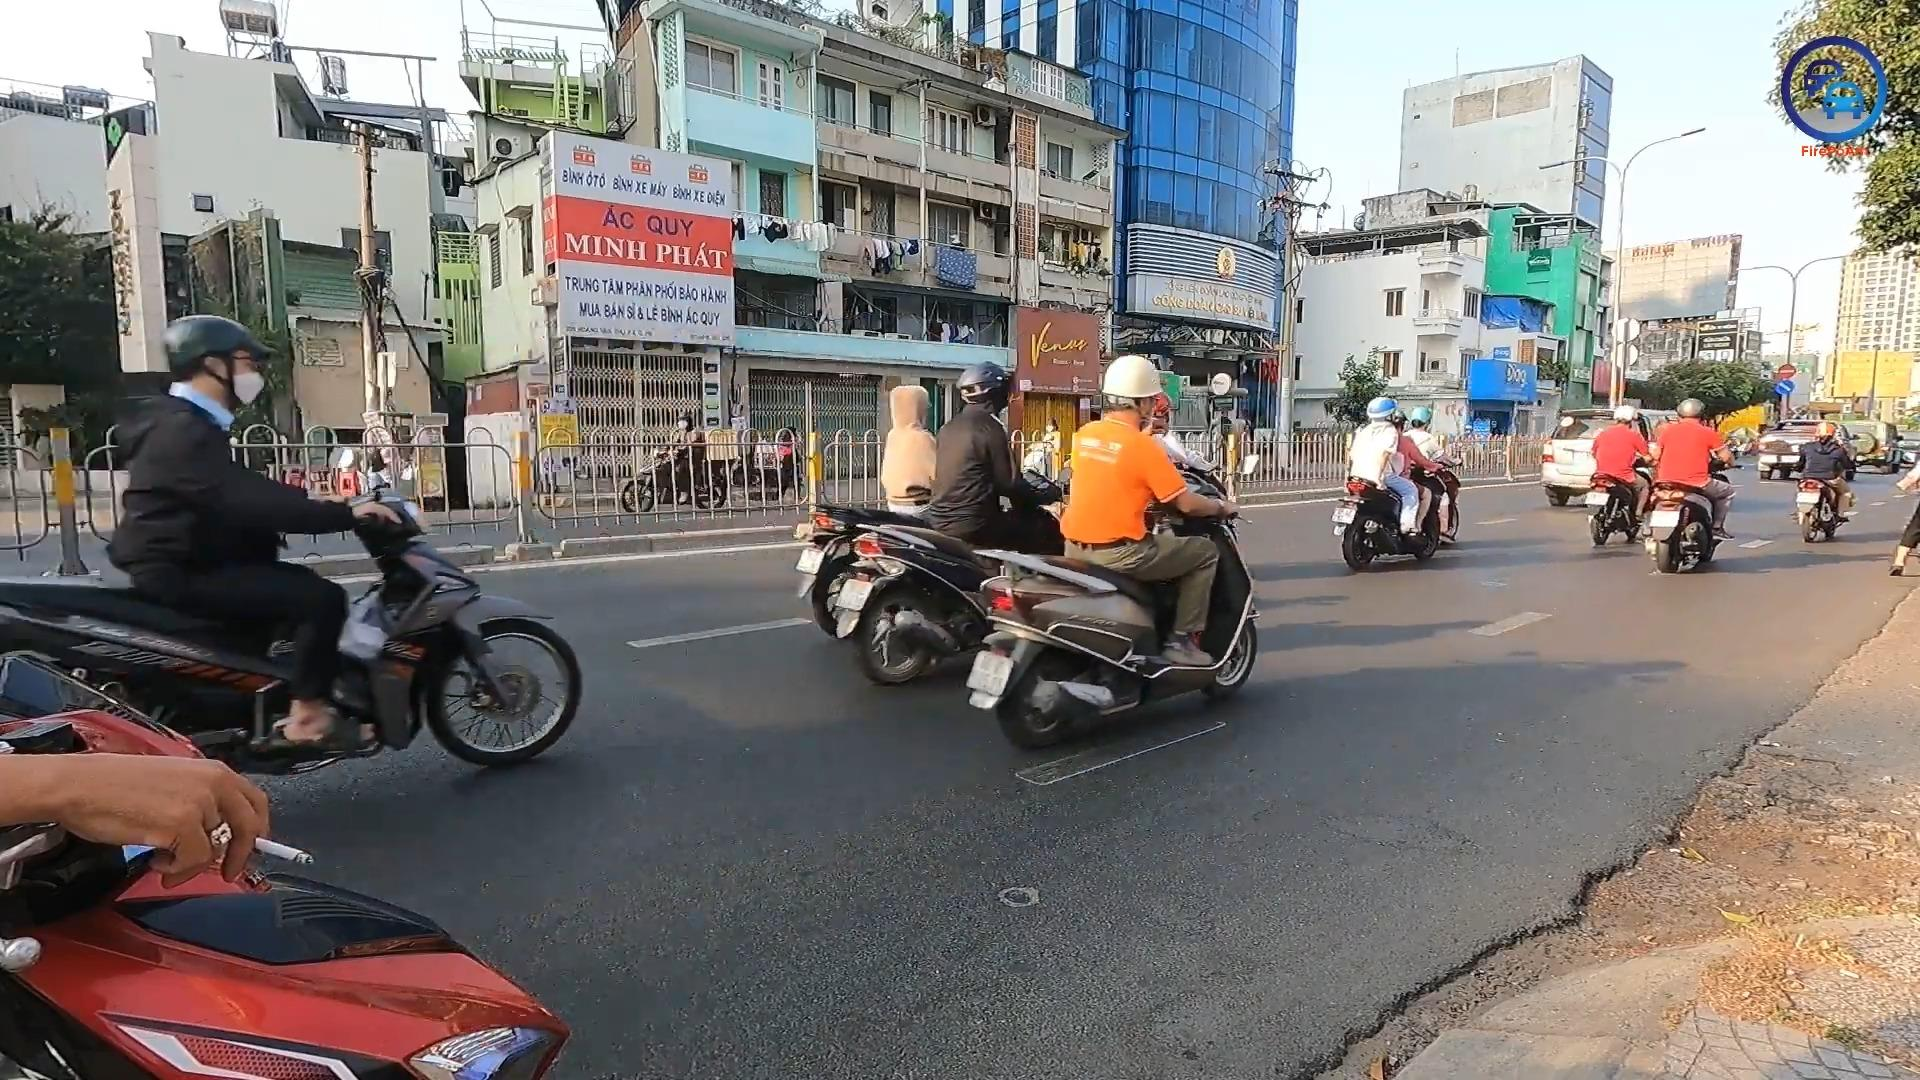bien_so: (965, 649, 1014, 697), (835, 578, 875, 612), (794, 546, 826, 575), (1648, 509, 1680, 529), (1330, 506, 1358, 525)
